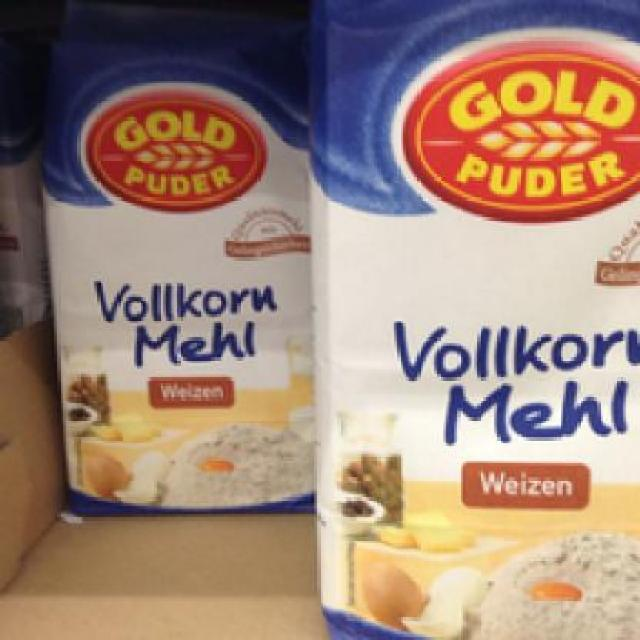Flour: (307, 0, 638, 635), (40, 17, 320, 514)
